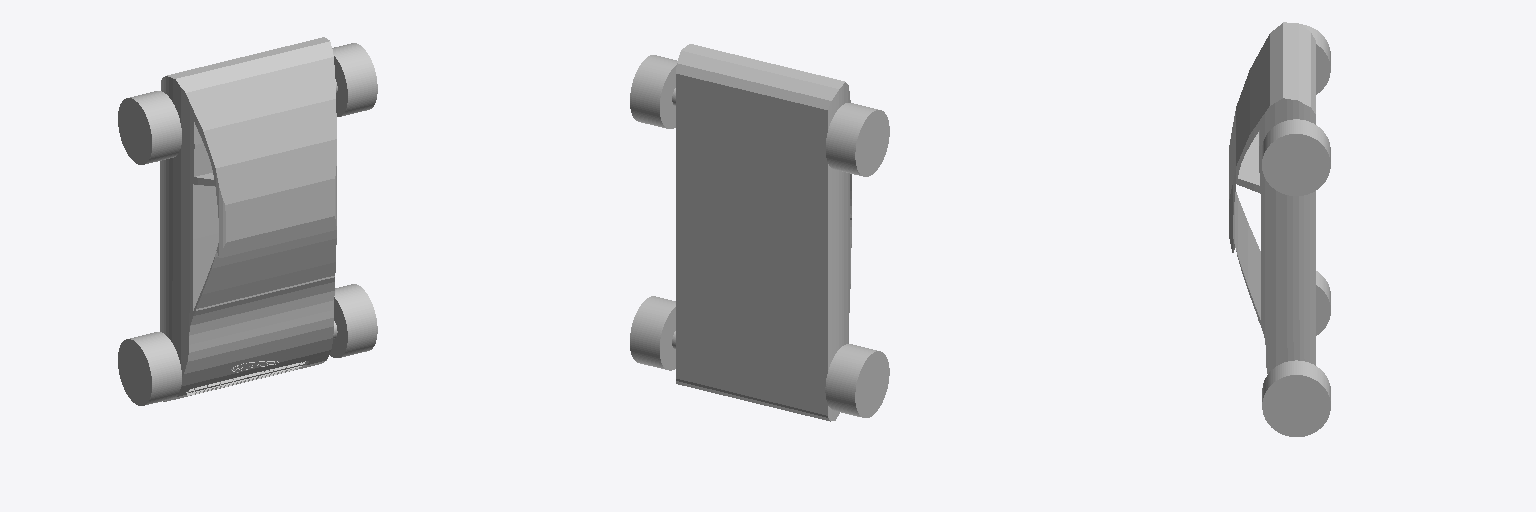
File: Elijah's Car final.obj
The picture shows the model from 3 angles: view 1: azimuth 30°, elevation 25°; view 2: azimuth 150°, elevation 25°; view 3: azimuth 270°, elevation 25°; orthographic projection.
Parts seen in each view (by area): view 1: Object.4, Object.3, Object.2; view 2: Object.4, Object.3, Object.2; view 3: Object.4, Object.2, Object.3.
Boxes of the visible parts, x1,y1,x2,y2 form: Object.4: [160, 37, 336, 401]; Object.3: [118, 284, 377, 405]; Object.2: [118, 43, 377, 164]; Object.4: [676, 44, 851, 421]; Object.3: [630, 296, 889, 417]; Object.2: [630, 55, 889, 176]; Object.4: [1229, 22, 1315, 373]; Object.2: [1262, 24, 1330, 195]; Object.3: [1262, 271, 1330, 436].
Size of the model in its own units: 22.7 by 37.53 by 8.89.